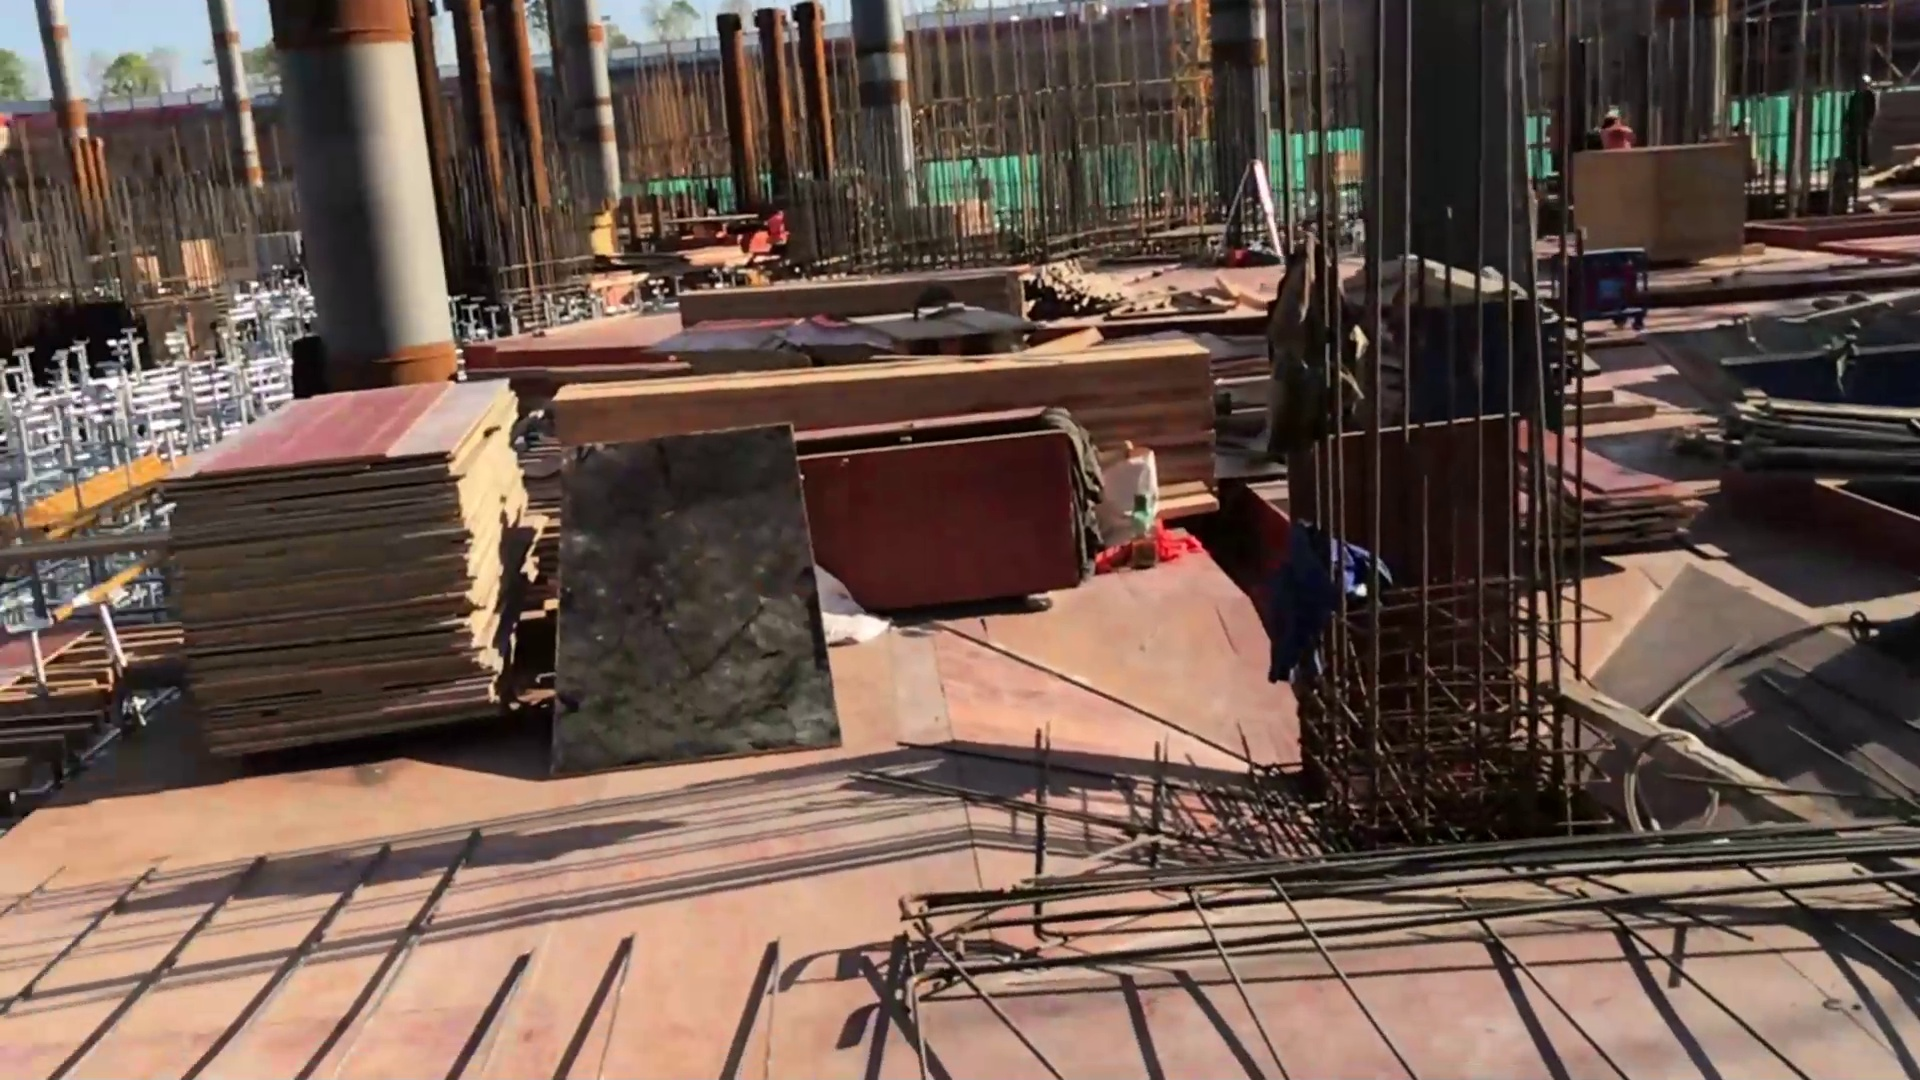board: (160, 389, 524, 729)
wood: (551, 318, 1222, 533)
